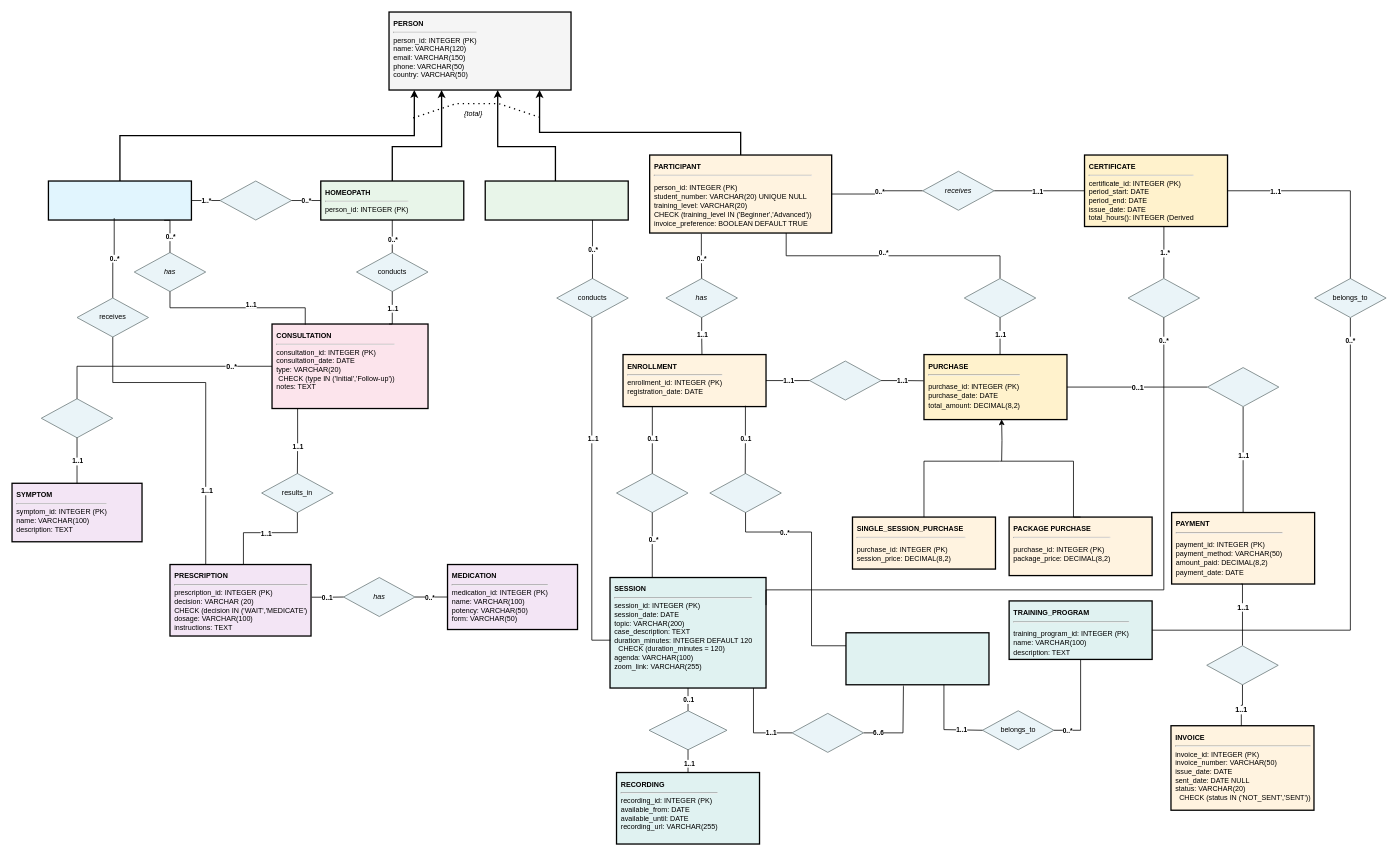
The diagram is 1398 pixels wide and 855 high, and some of its shapes have lost their labels. The centre of each missing label's shape, as x and y in pixels:
"assigned_to" belongs at (255,200).
"comprises" belongs at (827,733).
"covered_by" belongs at (845,380).
"covers" belongs at (1163,298).
"CYCLE cycle_id: INTEGER (PK) start_date: DATE end_date: DATE" belongs at (917,658).
"enrolls_in" belongs at (745,493).
"generates" belongs at (1242,665).
"has_recording" belongs at (687,730).
"LECTURER person_id: INTEGER (PK)" belongs at (556,200).
"makes" belongs at (999,298).
"paid_by" belongs at (1243,387).
"PATIENT person_id: INTEGER (PK)" belongs at (119,200).
"records" belongs at (76,418).
"registers_for" belongs at (652,493).
